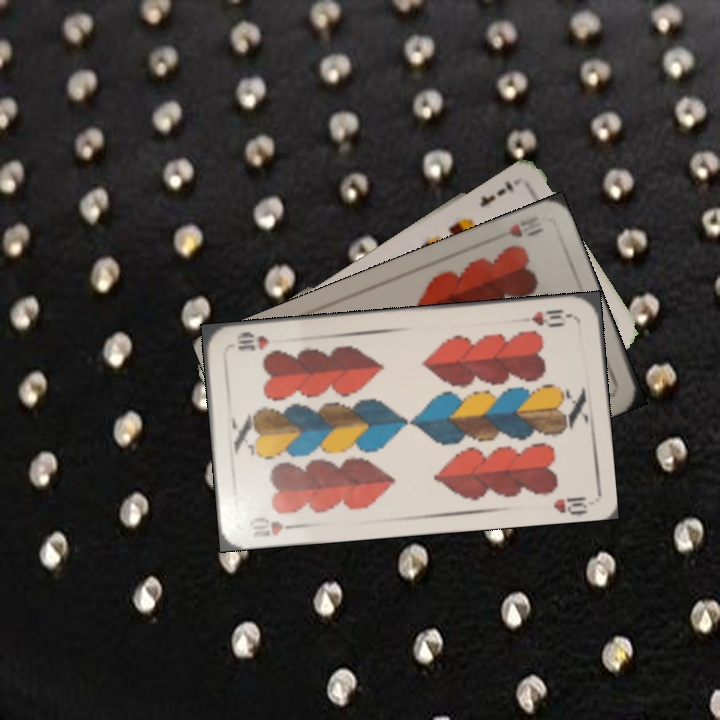E7: (476, 176, 515, 210)
H10: (488, 212, 546, 244), (245, 513, 302, 541), (527, 305, 575, 330)
